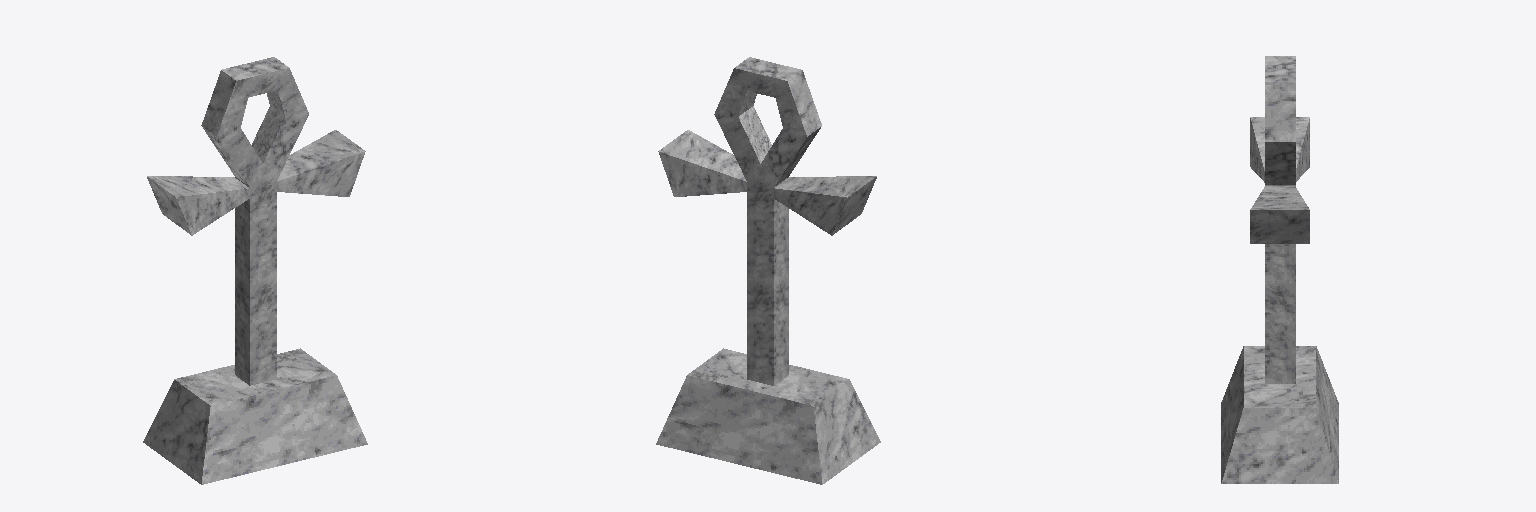
The picture shows the model from 3 angles: view 1: azimuth 30°, elevation 25°; view 2: azimuth 150°, elevation 25°; view 3: azimuth 270°, elevation 25°; orthographic projection.
Parts seen in each view (by area): view 1: model43121-node_model43121; view 2: model43121-node_model43121; view 3: model43121-node_model43121.
Boxes of the visible parts, <box> form: model43121-node_model43121: <box>143,57,367,484</box>; model43121-node_model43121: <box>656,57,880,484</box>; model43121-node_model43121: <box>1221,56,1338,483</box>.
Bounding box in the file's own units: 1.2 × 2.27 × 0.6422.
1 materials, 1 textured.